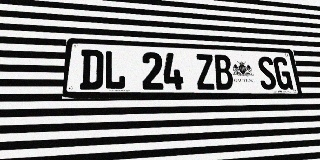2: (142, 52, 163, 90)
4: (162, 53, 184, 90)
B: (213, 54, 234, 90)
D: (79, 49, 104, 90)
G: (272, 57, 293, 90)
L: (103, 50, 126, 90)
S: (256, 56, 278, 90)
Z: (195, 54, 216, 90)
